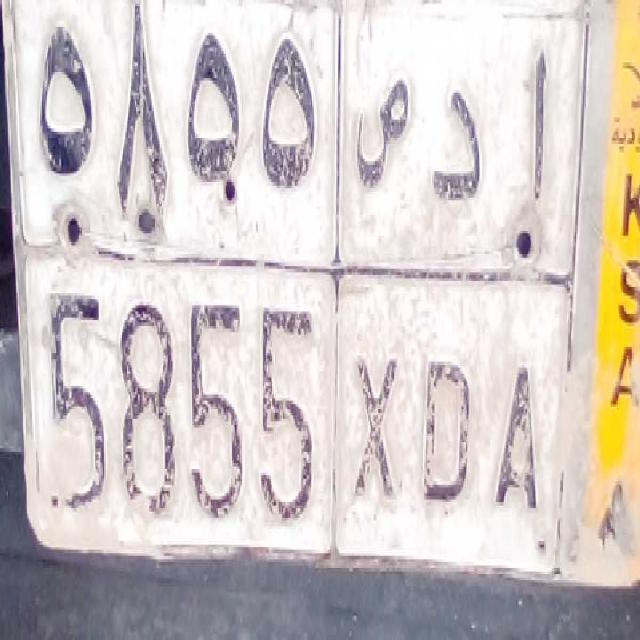license_plate: (37, 240, 555, 584)
